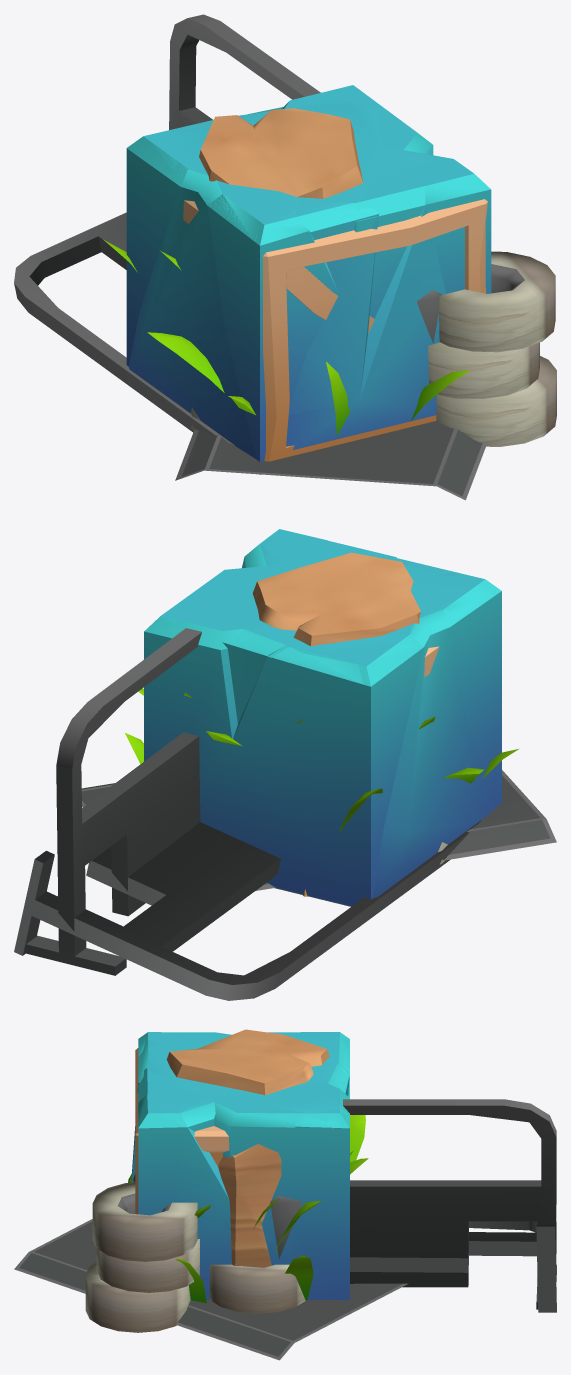
The picture shows the model from 3 angles, top to bottom: view 1: azimuth 30°, elevation 25°; view 2: azimuth 150°, elevation 25°; view 3: azimuth 270°, elevation 25°; orthographic projection. The views are drawn at different scales.
Visible parts, largest first — view 1: wall_004, wall_001, wall_005, pCylinder5, wall_003, pCylinder11, wall_002, Plane.450, Plane.383, plant_001, pCylinder6, Circle.065; view 2: wall_001, Plane.450, wall_004, Plane.383, wall_002, wall_005, pCylinder11, plant_001; view 3: wall_001, Plane.383, pCylinder11, pCylinder5, wall_002, Plane.450, wall_004, wall_005, plant_001, wall_003, Circle.065, pCylinder6.
Part boxes in pixels (left/top/right/bottom): wall_004: left=128, top=85, right=490, bottom=474; wall_001: left=126, top=85, right=491, bottom=461; wall_005: left=139, top=87, right=480, bottom=447; pCylinder5: left=428, top=251, right=556, bottom=446; wall_003: left=183, top=199, right=487, bottom=461; pCylinder11: left=175, top=421, right=486, bottom=500; wall_002: left=199, top=108, right=362, bottom=198; Plane.450: left=14, top=212, right=234, bottom=445; Plane.383: left=169, top=14, right=320, bottom=129; plant_001: left=103, top=239, right=469, bottom=435; pCylinder6: left=464, top=356, right=556, bottom=401; Circle.065: left=417, top=290, right=441, bottom=342; wall_001: left=144, top=529, right=501, bottom=906; Plane.450: left=14, top=820, right=481, bottom=1000; wall_004: left=145, top=529, right=497, bottom=897; Plane.383: left=24, top=628, right=201, bottom=975; wall_002: left=252, top=552, right=420, bottom=896; wall_005: left=153, top=531, right=496, bottom=871; pCylinder11: left=81, top=770, right=556, bottom=890; plant_001: left=125, top=688, right=519, bottom=832; wall_001: left=138, top=1032, right=349, bottom=1299; Plane.383: left=343, top=1099, right=556, bottom=1309; pCylinder11: left=14, top=1219, right=408, bottom=1360; pCylinder5: left=85, top=1182, right=199, bottom=1332; wall_002: left=166, top=1029, right=329, bottom=1267; Plane.450: left=350, top=1221, right=556, bottom=1312; wall_004: left=131, top=1032, right=349, bottom=1182; wall_005: left=131, top=1032, right=349, bottom=1182; plant_001: left=128, top=1115, right=368, bottom=1303; wall_003: left=135, top=1048, right=229, bottom=1214; Circle.065: left=133, top=1174, right=302, bottom=1259; pCylinder6: left=86, top=1262, right=171, bottom=1296.
Bounding box in the file's own units: 23.8 × 13.97 × 32.56.
